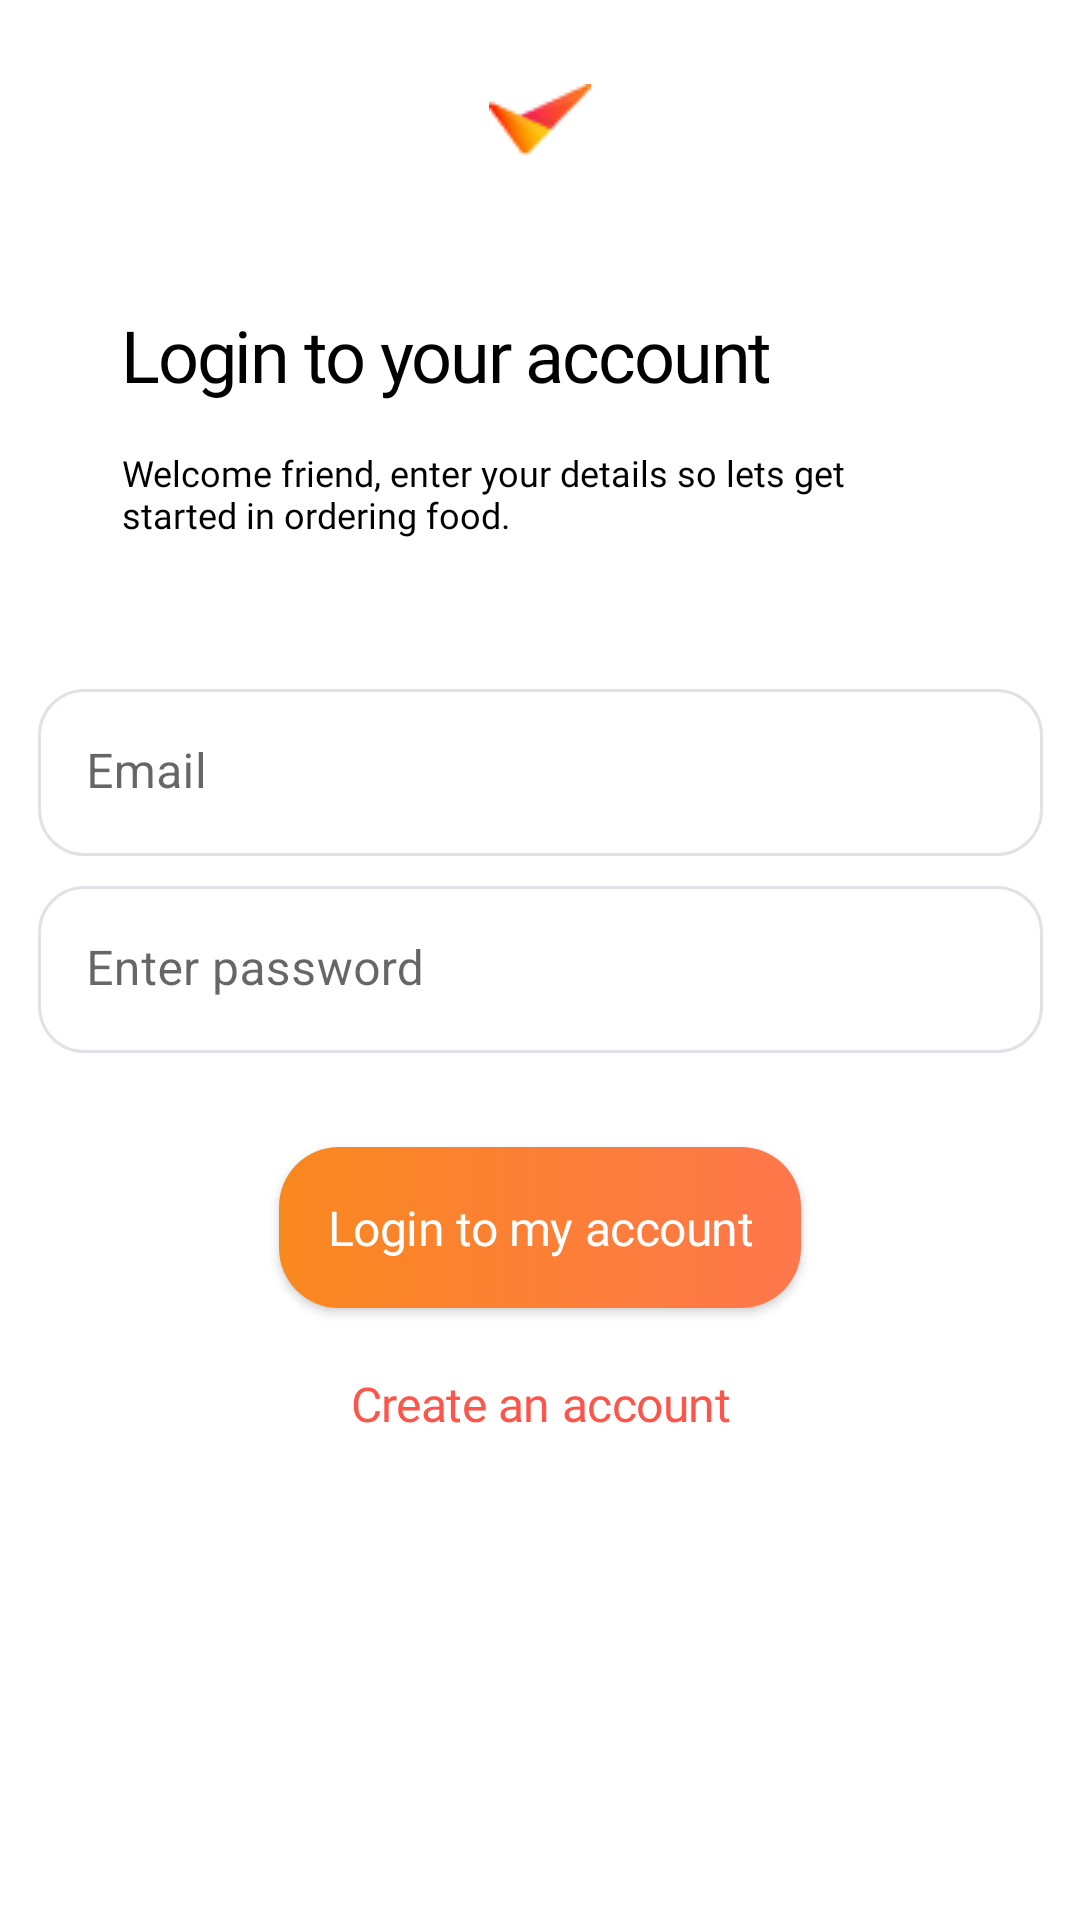

Icon bounding boxes for this 1080px x 1920px phone screenshot, format (x1, y1, x2, y2):
app: (489, 84, 591, 156)
